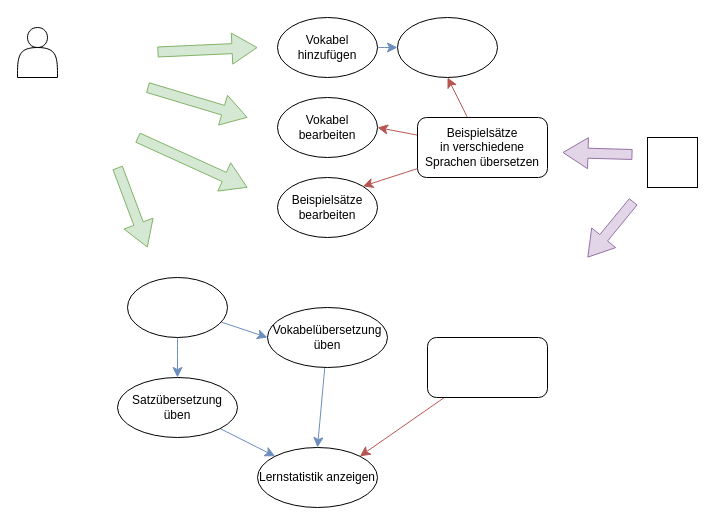
The diagram is 715 pixels wide and 525 high, and some of its shapes have lost their labels. The centre of each missing label's shape, as x and y in pixels:
Auswahl Übung: the point at 177,307
Beispielsätze hinzufügen: the point at 447,47
System: the point at 672,162
Übungen generieren und bewerten: the point at 487,367
